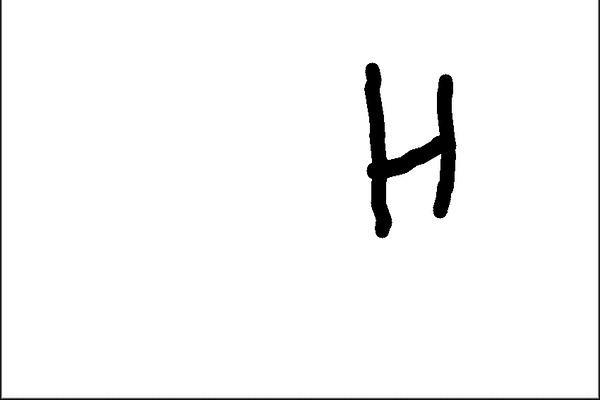H: (357, 57, 466, 240)
